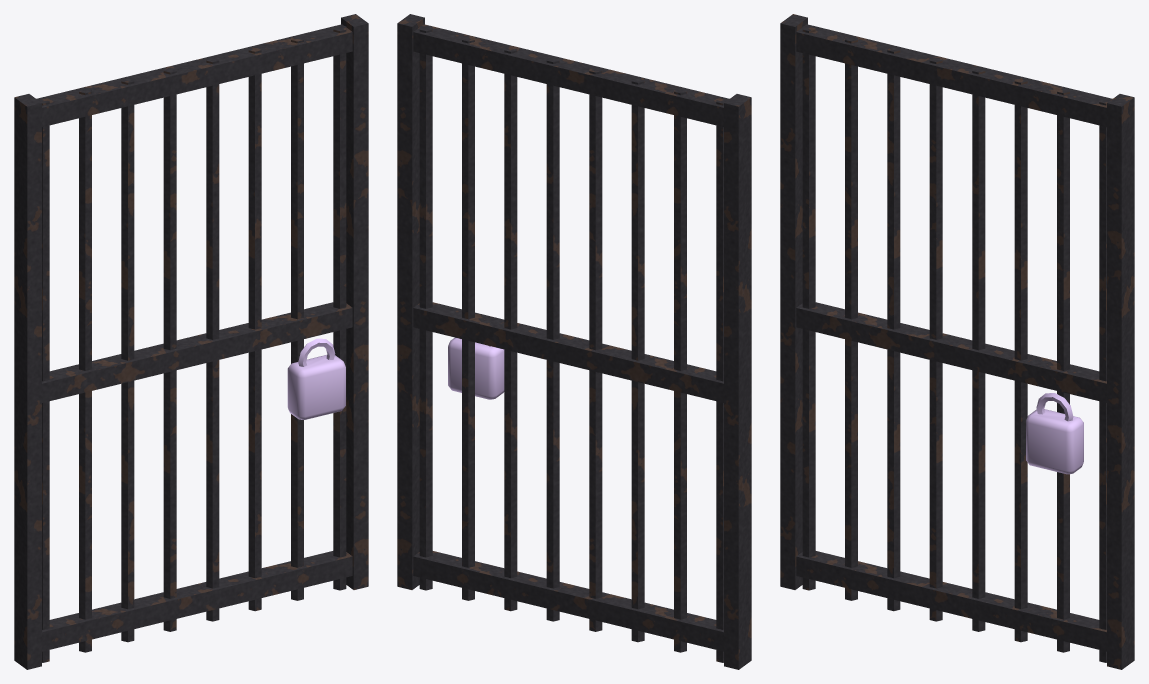
File: dun_cage_lilac.glb
3 views of the same model, side by side, from view 1: azimuth 30°, elevation 25°; view 2: azimuth 150°, elevation 25°; view 3: azimuth 330°, elevation 25° (orthographic).
Parts seen in each view (by area): view 1: dun_cage_lilac_iron_0, dun_cage_lilac_satin_lilac_0; view 2: dun_cage_lilac_iron_0, dun_cage_lilac_satin_lilac_0; view 3: dun_cage_lilac_iron_0, dun_cage_lilac_satin_lilac_0.
Part boxes in pixels (left/top/right/bottom): dun_cage_lilac_iron_0: left=14, top=14, right=368, bottom=669; dun_cage_lilac_satin_lilac_0: left=287, top=338, right=345, bottom=419; dun_cage_lilac_iron_0: left=397, top=14, right=751, bottom=669; dun_cage_lilac_satin_lilac_0: left=448, top=337, right=504, bottom=399; dun_cage_lilac_iron_0: left=780, top=14, right=1134, bottom=669; dun_cage_lilac_satin_lilac_0: left=1026, top=393, right=1083, bottom=474.
Bounding box in the file's own units: 1.84 × 2.9 × 0.26.
Materials: 2 (1 with a texture image).
